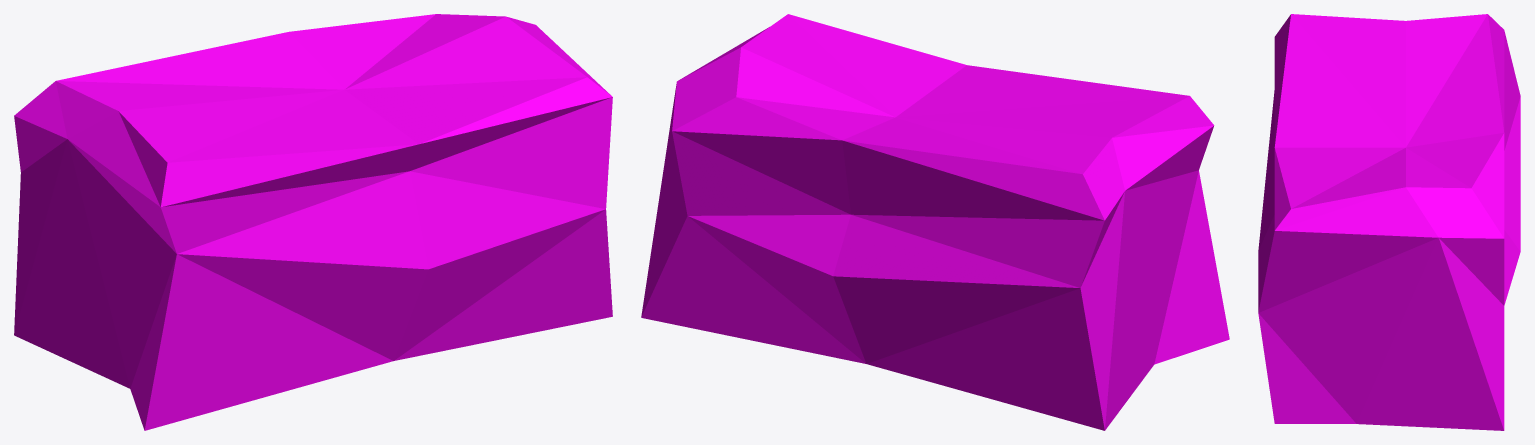
File: rockcounter.obj
3 renders of one model, left to right at view 1: azimuth 30°, elevation 25°; view 2: azimuth 150°, elevation 25°; view 3: azimuth 270°, elevation 25°, orthographic. The views are drawn at different scales.
Visible parts, largest first — view 1: rockcounter_back; view 2: rockcounter_back; view 3: rockcounter_back.
Boxes of the visible parts, bbox=[...] form: rockcounter_back: bbox=[14, 14, 612, 430]; rockcounter_back: bbox=[641, 14, 1229, 430]; rockcounter_back: bbox=[1258, 14, 1520, 430].
Bounding box in the file's own units: 2.4 × 1.2 × 1.28.
